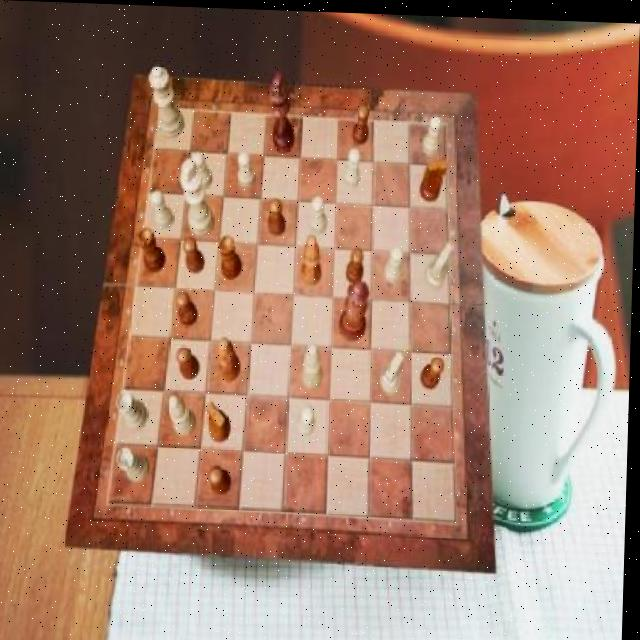bishop: (303, 232, 325, 285), (219, 336, 243, 380)
black-bishop: (269, 70, 298, 152)
black-king: (420, 155, 448, 198), (207, 400, 234, 441)
black-knight: (179, 344, 204, 379), (183, 235, 206, 272), (422, 353, 447, 387), (177, 290, 201, 325), (354, 103, 372, 143), (347, 246, 366, 282), (269, 196, 287, 234), (212, 465, 235, 493)
black-pawn: (340, 276, 371, 340)
black-queen: (138, 225, 168, 272), (220, 234, 245, 279)
black-rook: (170, 393, 200, 435), (305, 340, 327, 386)
white-bishop: (179, 156, 217, 235)
white-king: (426, 239, 454, 287), (382, 348, 407, 391)
white-knight: (150, 191, 175, 230), (423, 113, 443, 155), (193, 150, 215, 187), (343, 147, 361, 188), (386, 242, 404, 280), (312, 194, 330, 232), (238, 150, 256, 187), (300, 403, 319, 436)
white-pawn: (147, 64, 186, 138)
white-queen: (119, 390, 151, 431), (118, 447, 152, 482)
